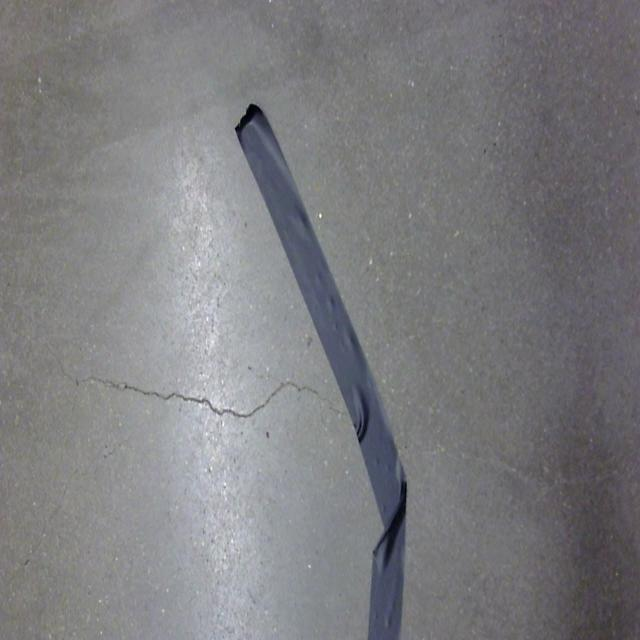tape: (228, 71, 433, 640)
